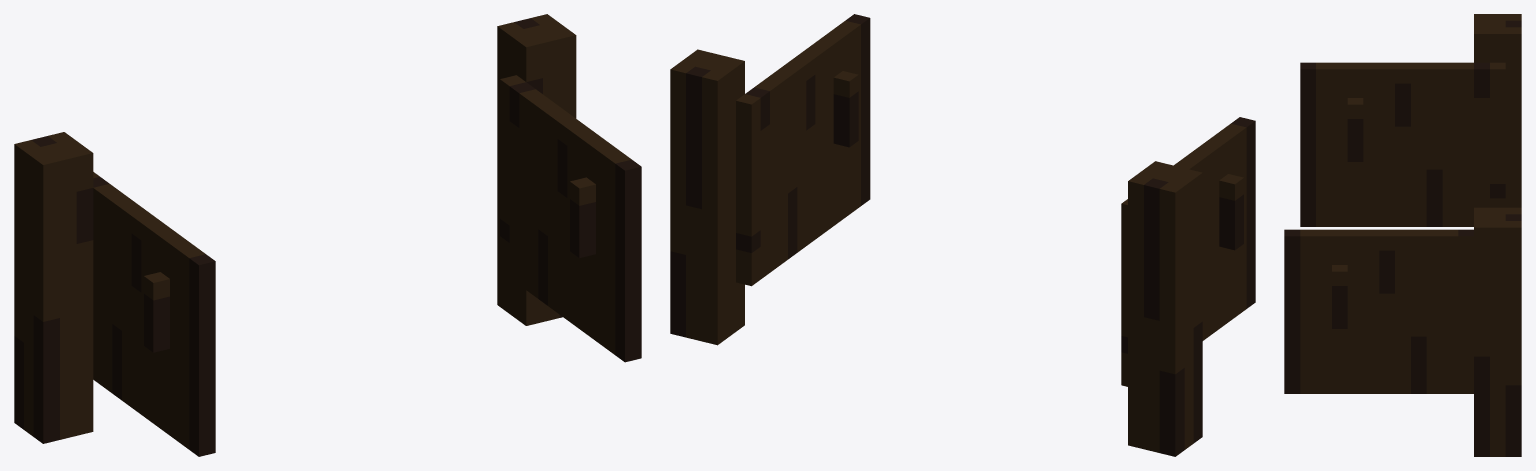
The model's file is open_gate.fbx.
3 views of the same model, side by side, from view 1: azimuth 30°, elevation 25°; view 2: azimuth 150°, elevation 25°; view 3: azimuth 270°, elevation 25° (orthographic). The views are drawn at different scales.
Visible parts, largest first — view 1: open_fense; view 2: open_fense; view 3: open_fense.
Boxes of the visible parts, box(x1,y1,x2,y2) form: open_fense: box(14, 14, 641, 456); open_fense: box(670, 14, 1255, 456); open_fense: box(1284, 14, 1521, 456).
Bounding box in the file's own units: 3.2 × 1.6 × 1.5.
